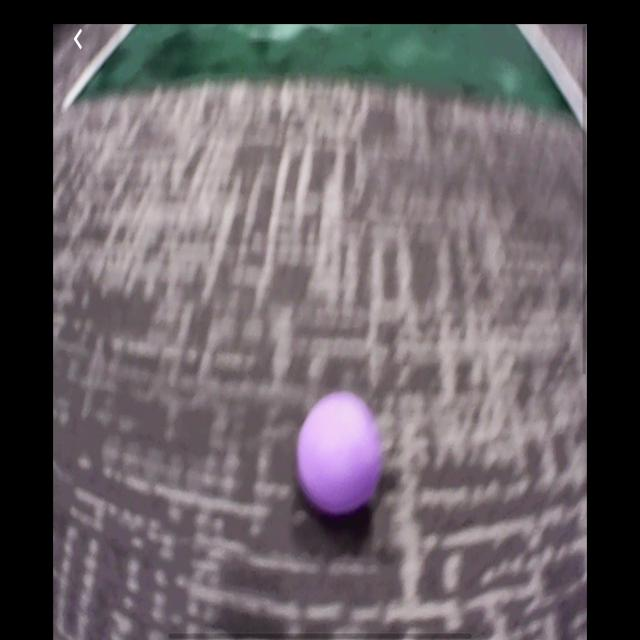ball: (296, 390, 383, 518)
